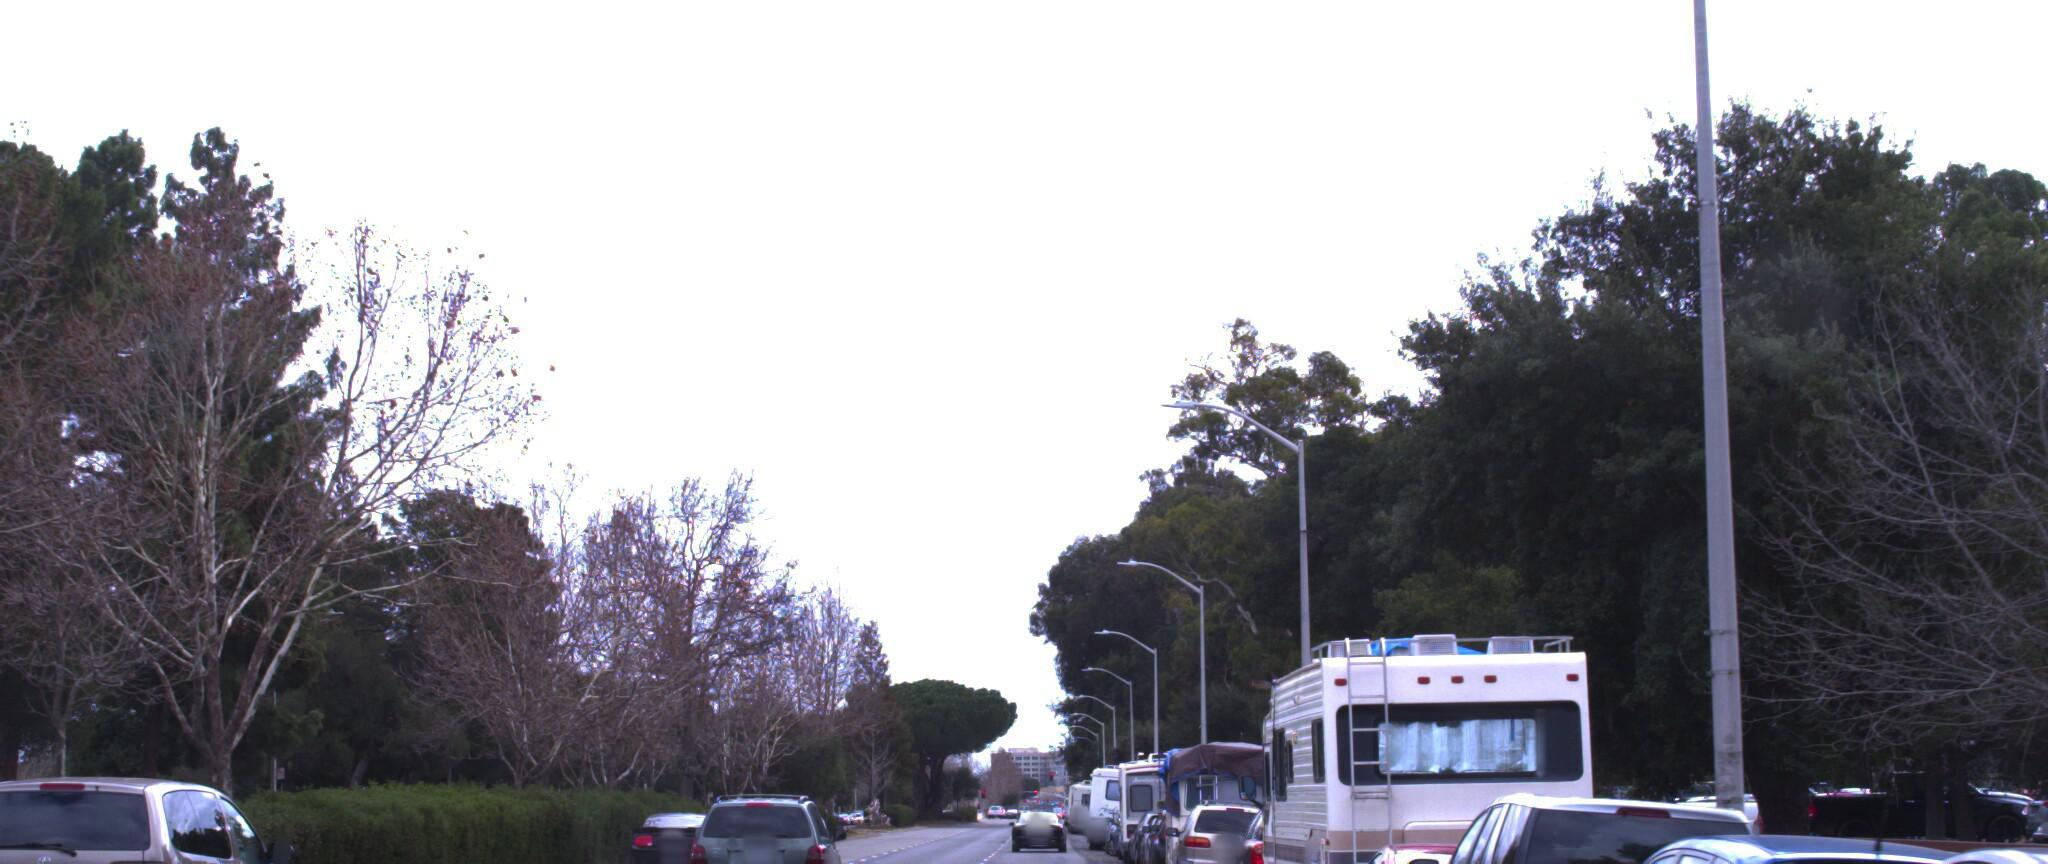car: (1337, 766, 1802, 864), (1462, 801, 2048, 864), (0, 769, 328, 864), (1629, 816, 2048, 864), (1264, 814, 1610, 864), (1196, 777, 1382, 864), (690, 782, 844, 864), (1145, 783, 1279, 864), (605, 791, 722, 864)
other_vehicle: (1219, 609, 1616, 864), (1138, 728, 1294, 864)
